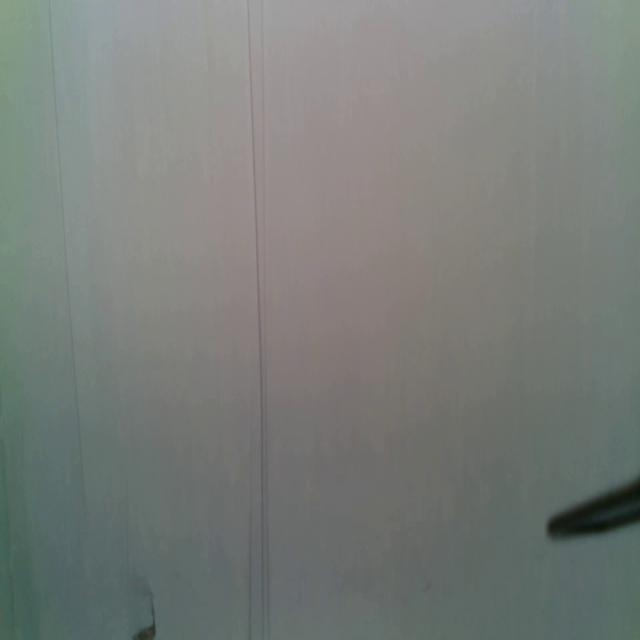crease: (47, 0, 88, 522), (243, 0, 272, 640)
hole: (127, 589, 158, 640)
